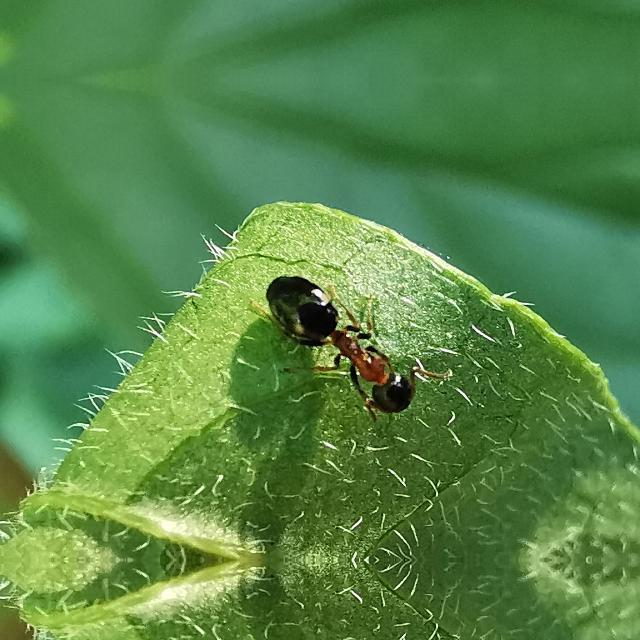Dolichoderus: (263, 275, 453, 429)
